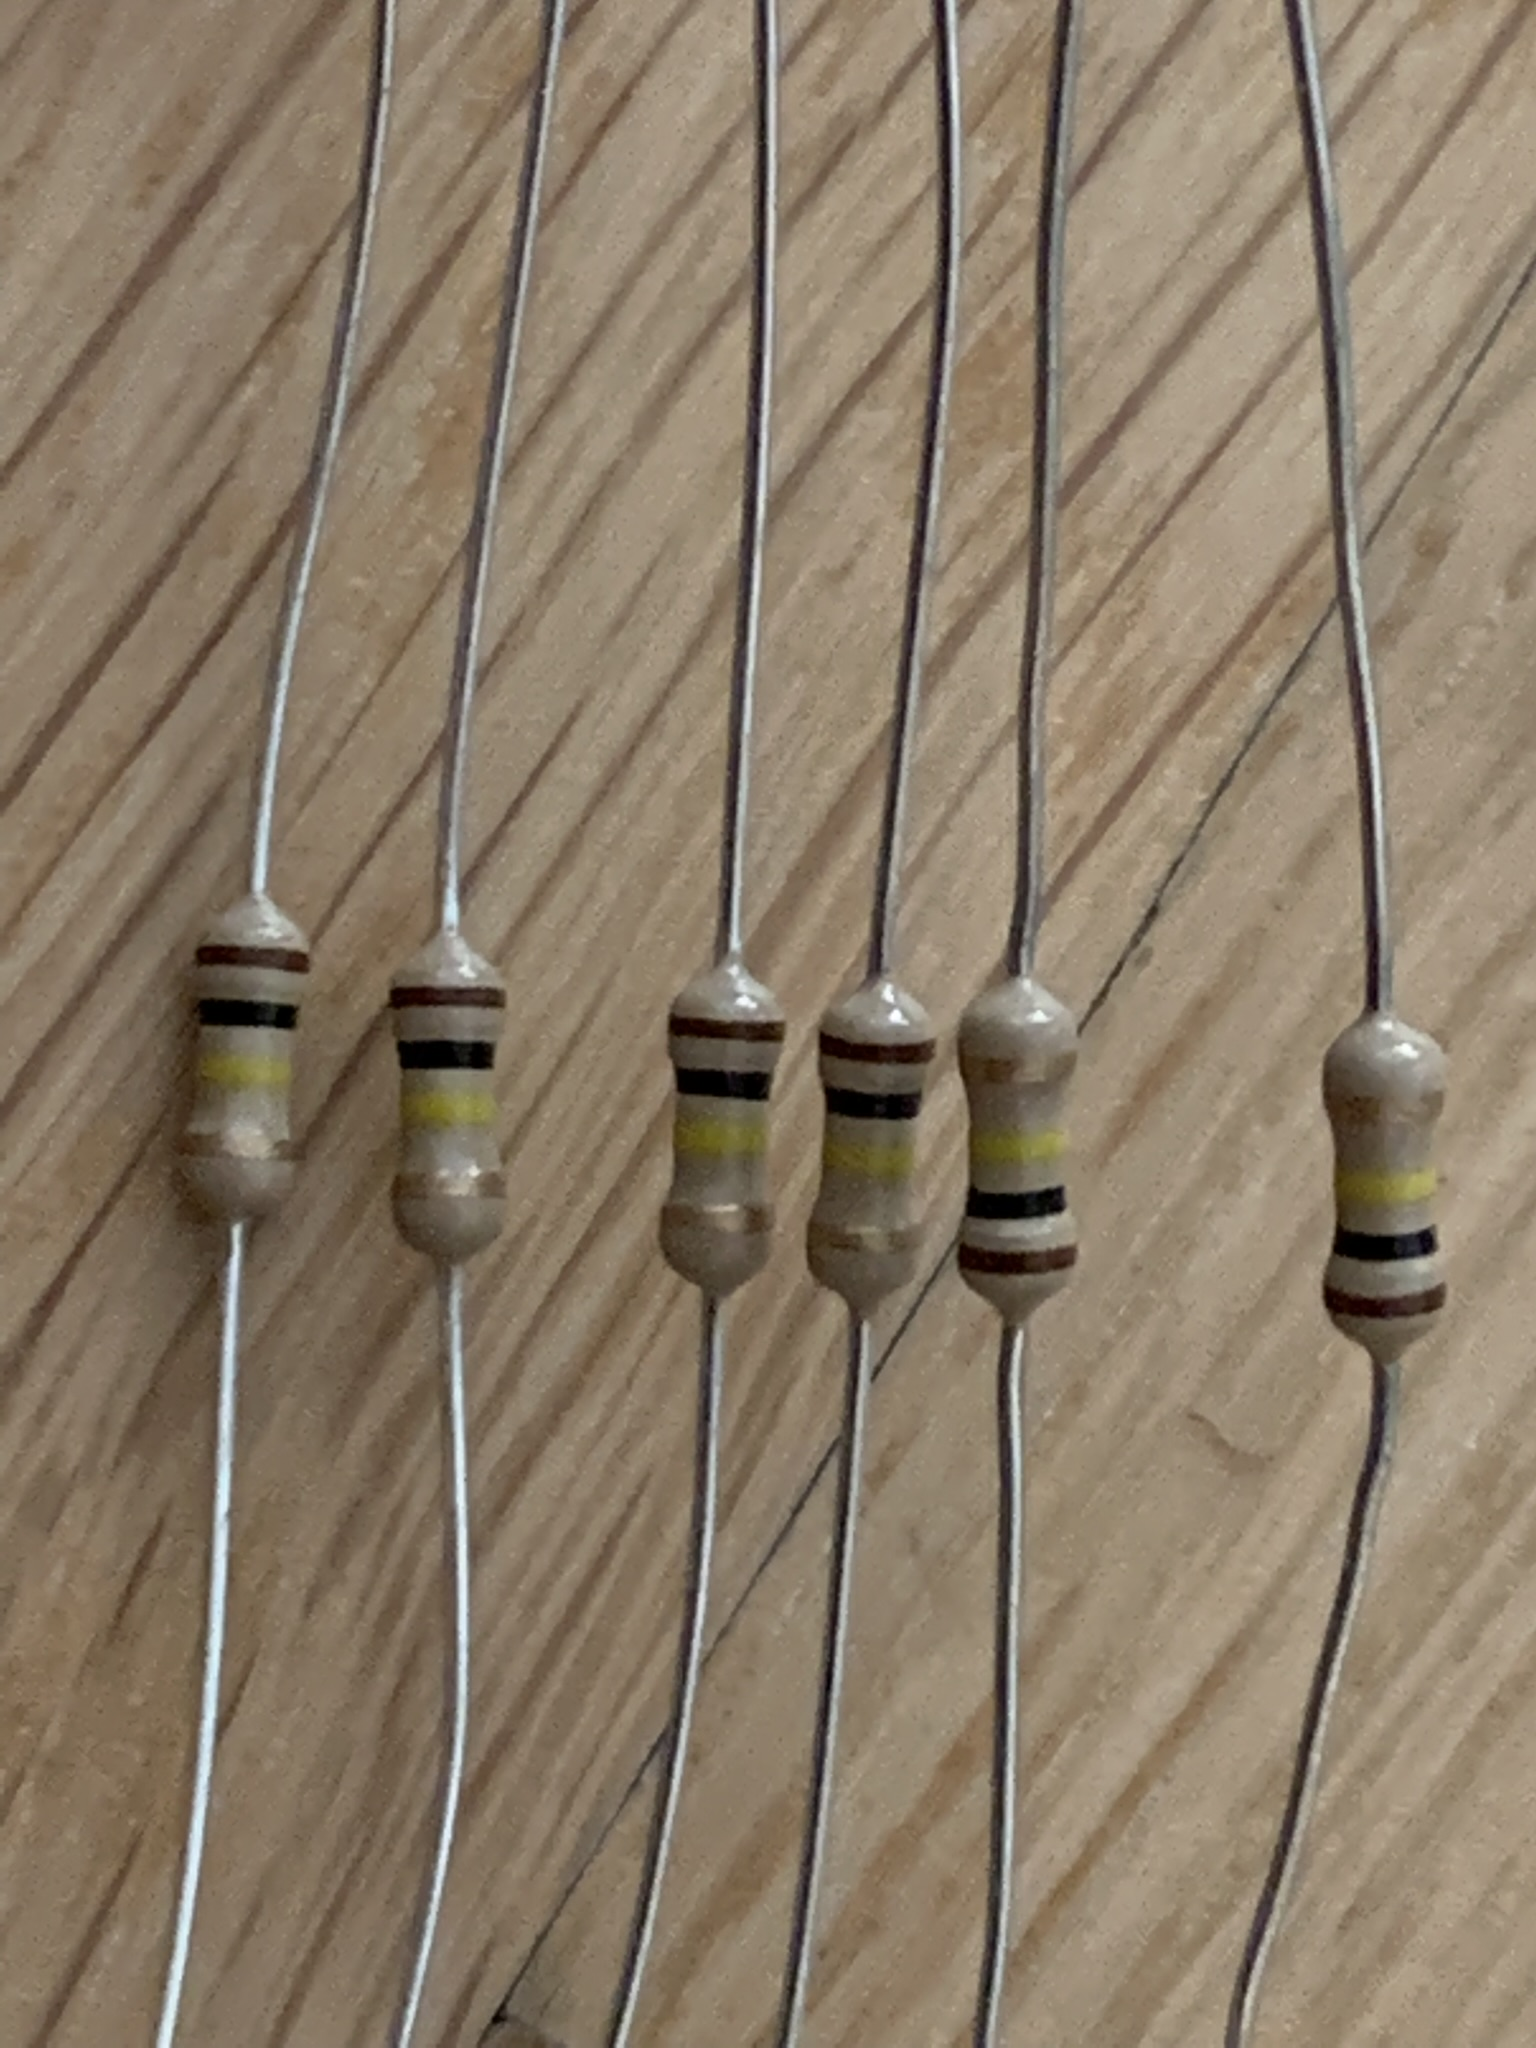resistor_thd: (177, 893, 311, 1226), (1323, 1013, 1454, 1351), (805, 985, 941, 1303), (660, 961, 787, 1293), (389, 932, 511, 1263), (958, 990, 1078, 1314)
